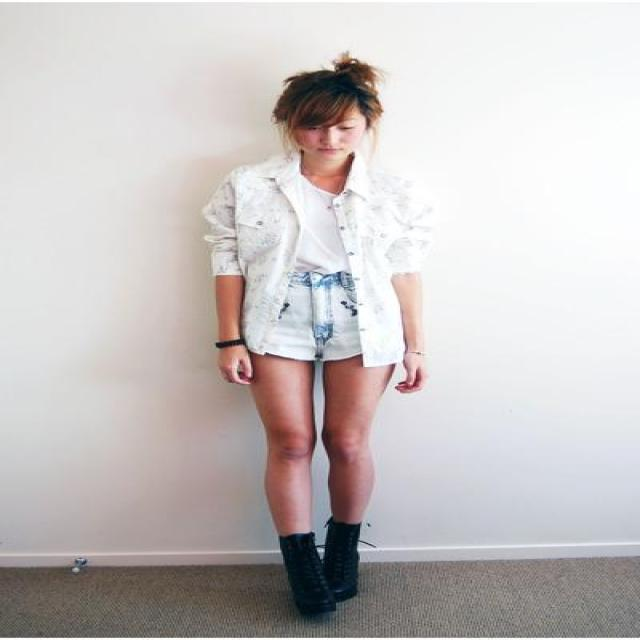jacket: (213, 156, 429, 378)
shirt: (264, 177, 362, 283)
shoe: (278, 525, 362, 622)
shorts: (262, 271, 364, 360)
